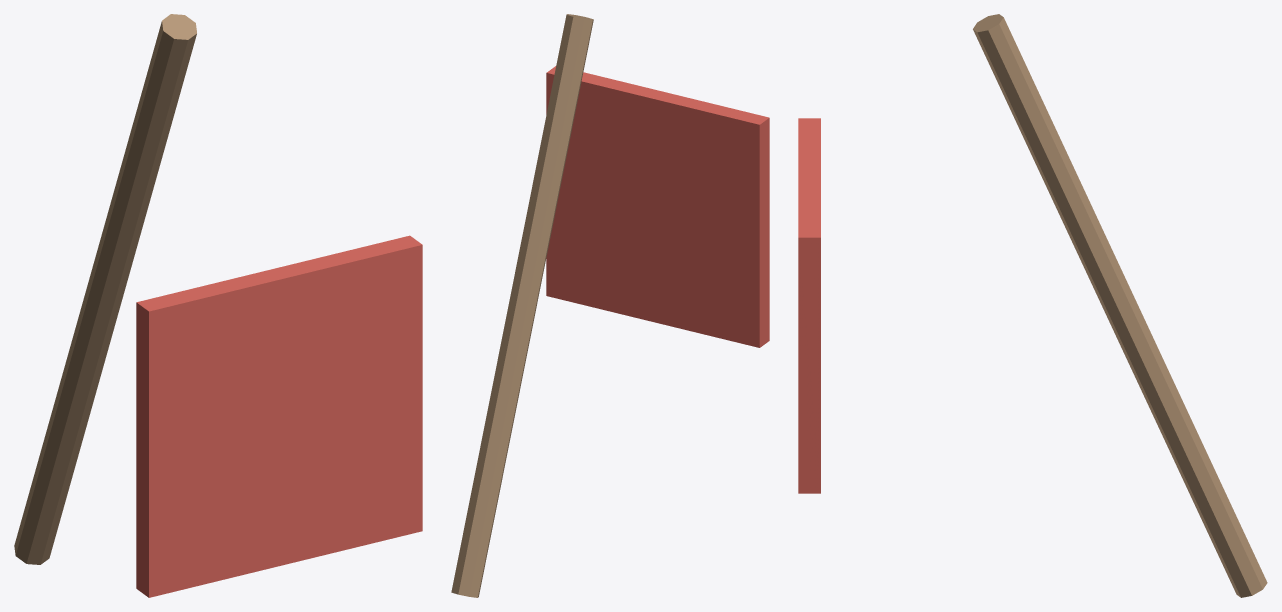
Rendered from snow_shovel_mission.glb.
3 views of the same model, side by side, from view 1: azimuth 30°, elevation 25°; view 2: azimuth 150°, elevation 25°; view 3: azimuth 270°, elevation 25° (orthographic). The views are drawn at different scales.
Parts seen in each view (by area): view 1: blade, handle; view 2: blade, handle; view 3: handle, blade.
Part boxes in pixels (<box>): blade: <box>136,235,422,597</box>; handle: <box>14,14,196,564</box>; blade: <box>546,66,769,347</box>; handle: <box>451,14,593,597</box>; handle: <box>973,14,1267,597</box>; blade: <box>798,118,820,493</box>.
Size of the model in its own units: 0.5 by 1.13 by 0.8311.
